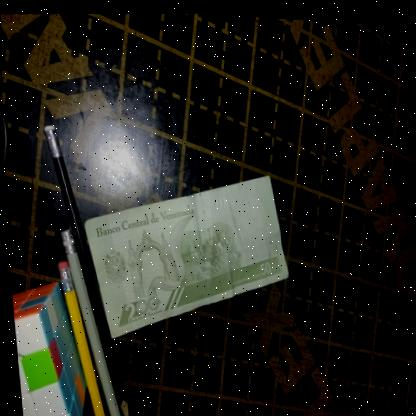fifty-back-vef: (79, 160, 294, 348)
